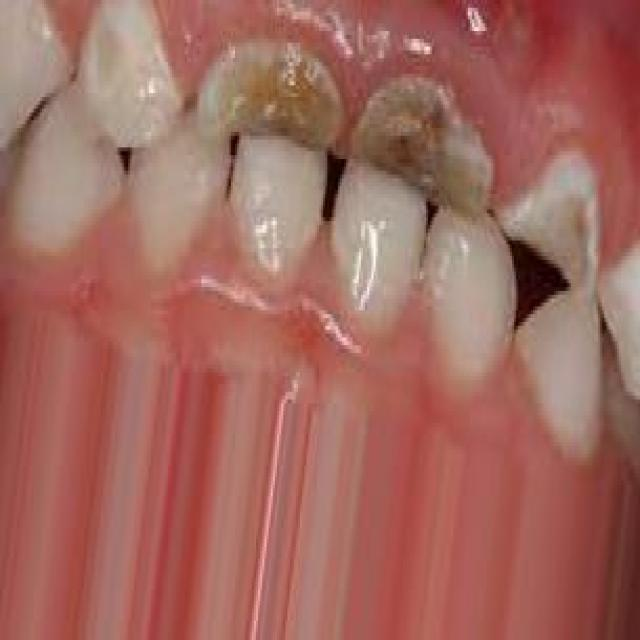caries: (352, 77, 494, 215), (198, 39, 345, 166), (507, 144, 605, 300)
